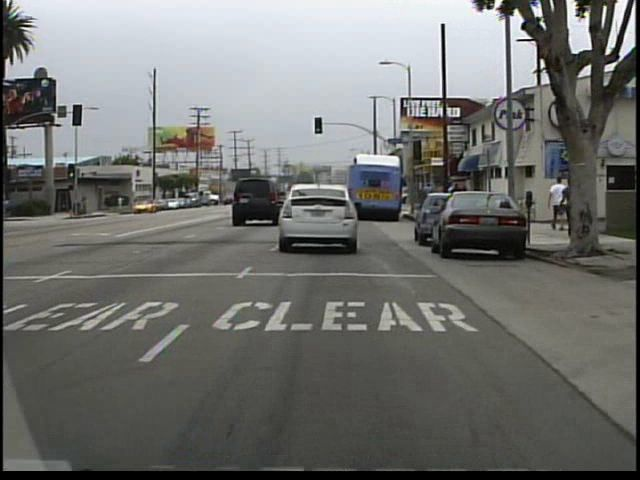person: (544, 172, 567, 235), (557, 177, 574, 234), (419, 180, 438, 220), (117, 195, 127, 211)
